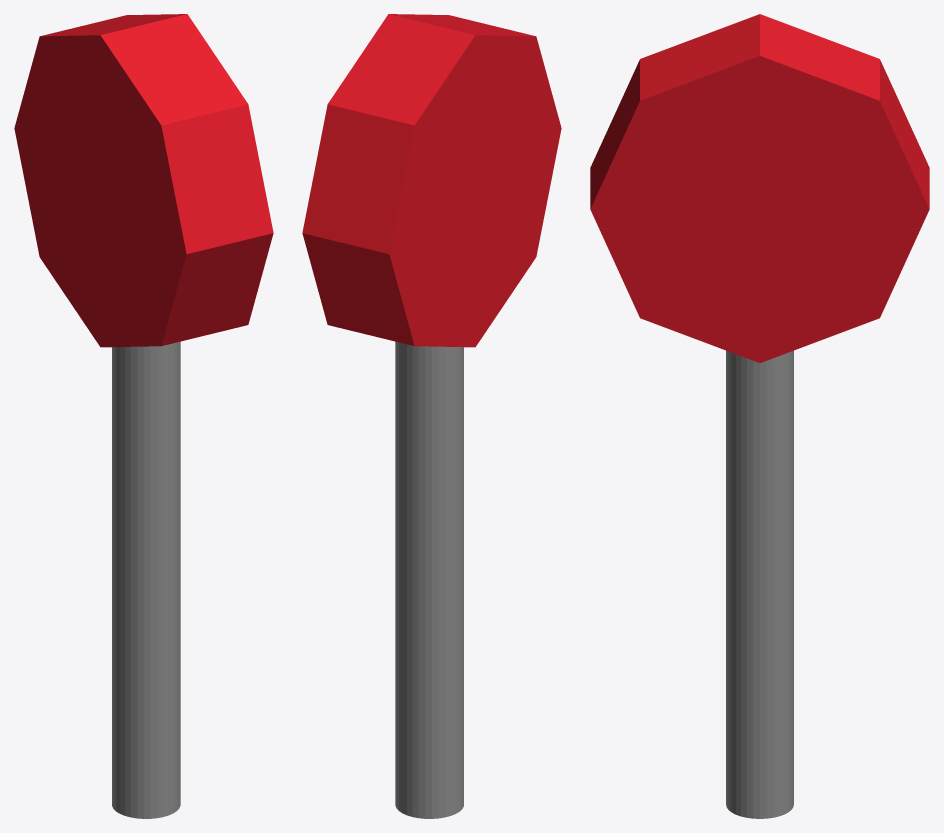
Rendered from StopSign.fbx.
The picture shows the model from 3 angles, left to right: view 1: azimuth 30°, elevation 25°; view 2: azimuth 150°, elevation 25°; view 3: azimuth 270°, elevation 25°; orthographic projection.
Visible parts, largest first — view 1: Cylinder; view 2: Cylinder; view 3: Cylinder.
Boxes of the visible parts, left/top/right/bottom form: Cylinder: left=14, top=14, right=273, bottom=818; Cylinder: left=302, top=14, right=561, bottom=818; Cylinder: left=590, top=14, right=929, bottom=818.
Bounding box in the file's own units: 14.59 × 125 × 50.
